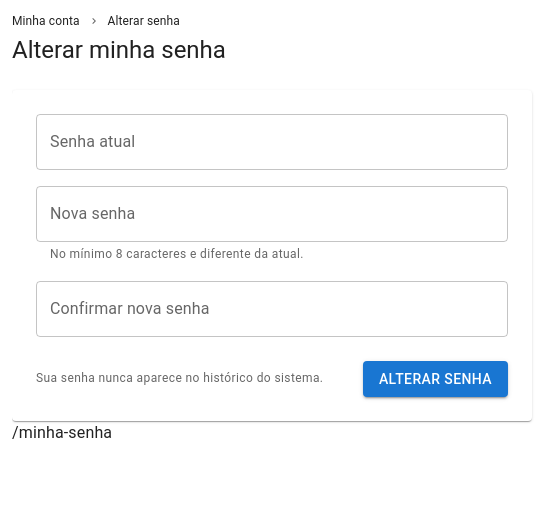
Test: TrocarSenhaPage › alterar voluntariamente fica na tela, avisa "Senha alterada" e limpa os campos
The width and height of the screenshot is (550, 523).
Step 1. Type "senhaAtual1" into the password field labelled "Senha atual" → (272, 142), box [36,114,508,170]
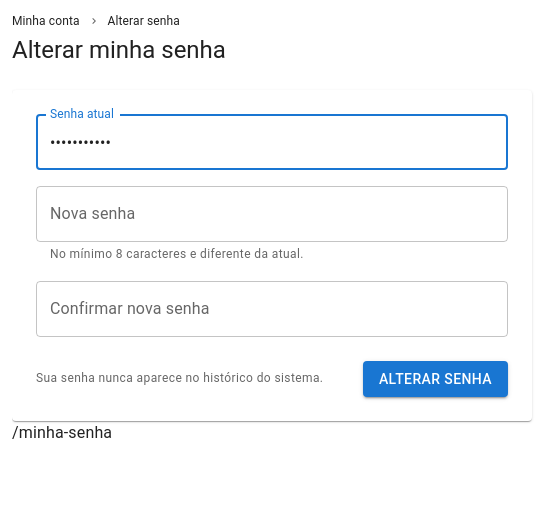
Step 2. Type "minhaNovaSenha" into the password field labelled "Nova senha" → (272, 214), box [36,186,508,242]
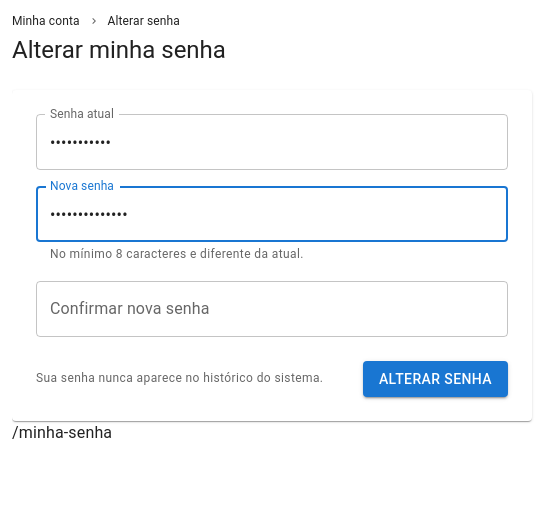
Step 3. Type "minhaNovaSenha" into the password field labelled "Confirmar nova senha" → (272, 309), box [36,281,508,337]
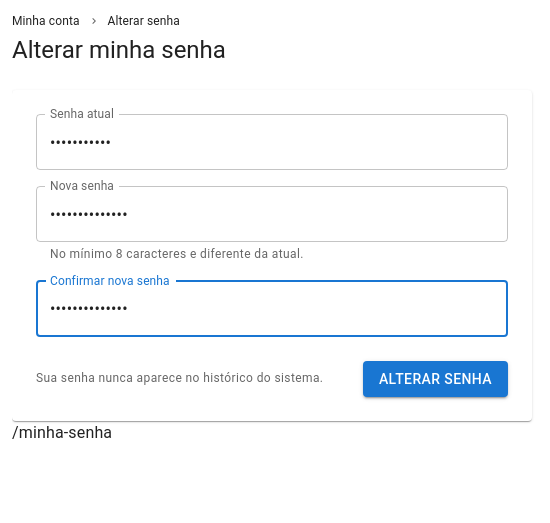
Step 4. Click the button "Alterar senha" → (435, 379), box [363,361,508,397]
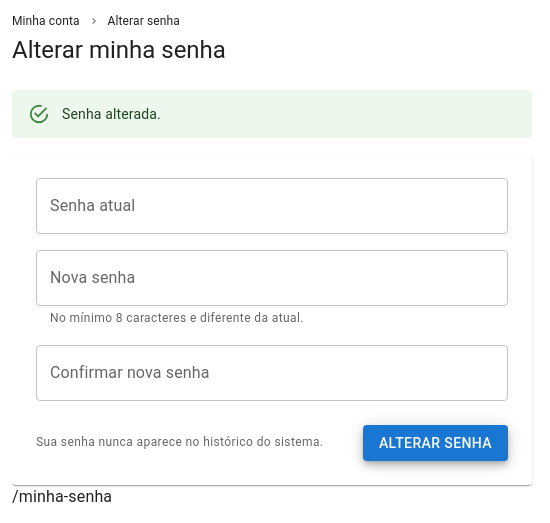
Expected: the text with test id "rota" reads "/minha-senha", [12,487,112,506]
Expected: the text "Senha alterada." is shown, [62,106,161,122]
Expected: the password field labelled "Nova senha" is empty, [36,250,508,306]
